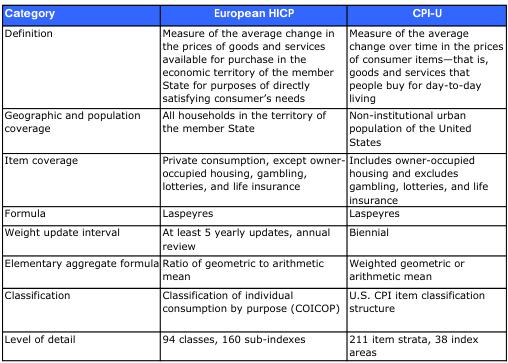table: (3, 4, 502, 356)
table column: (159, 4, 346, 356), (3, 4, 159, 356), (346, 4, 502, 356)
table column header: (3, 4, 502, 22)
table row: (3, 22, 502, 105), (3, 149, 502, 205), (3, 105, 502, 149), (3, 284, 502, 322), (3, 322, 502, 356), (3, 221, 502, 253), (3, 253, 502, 284), (3, 4, 502, 22), (3, 205, 502, 221)
